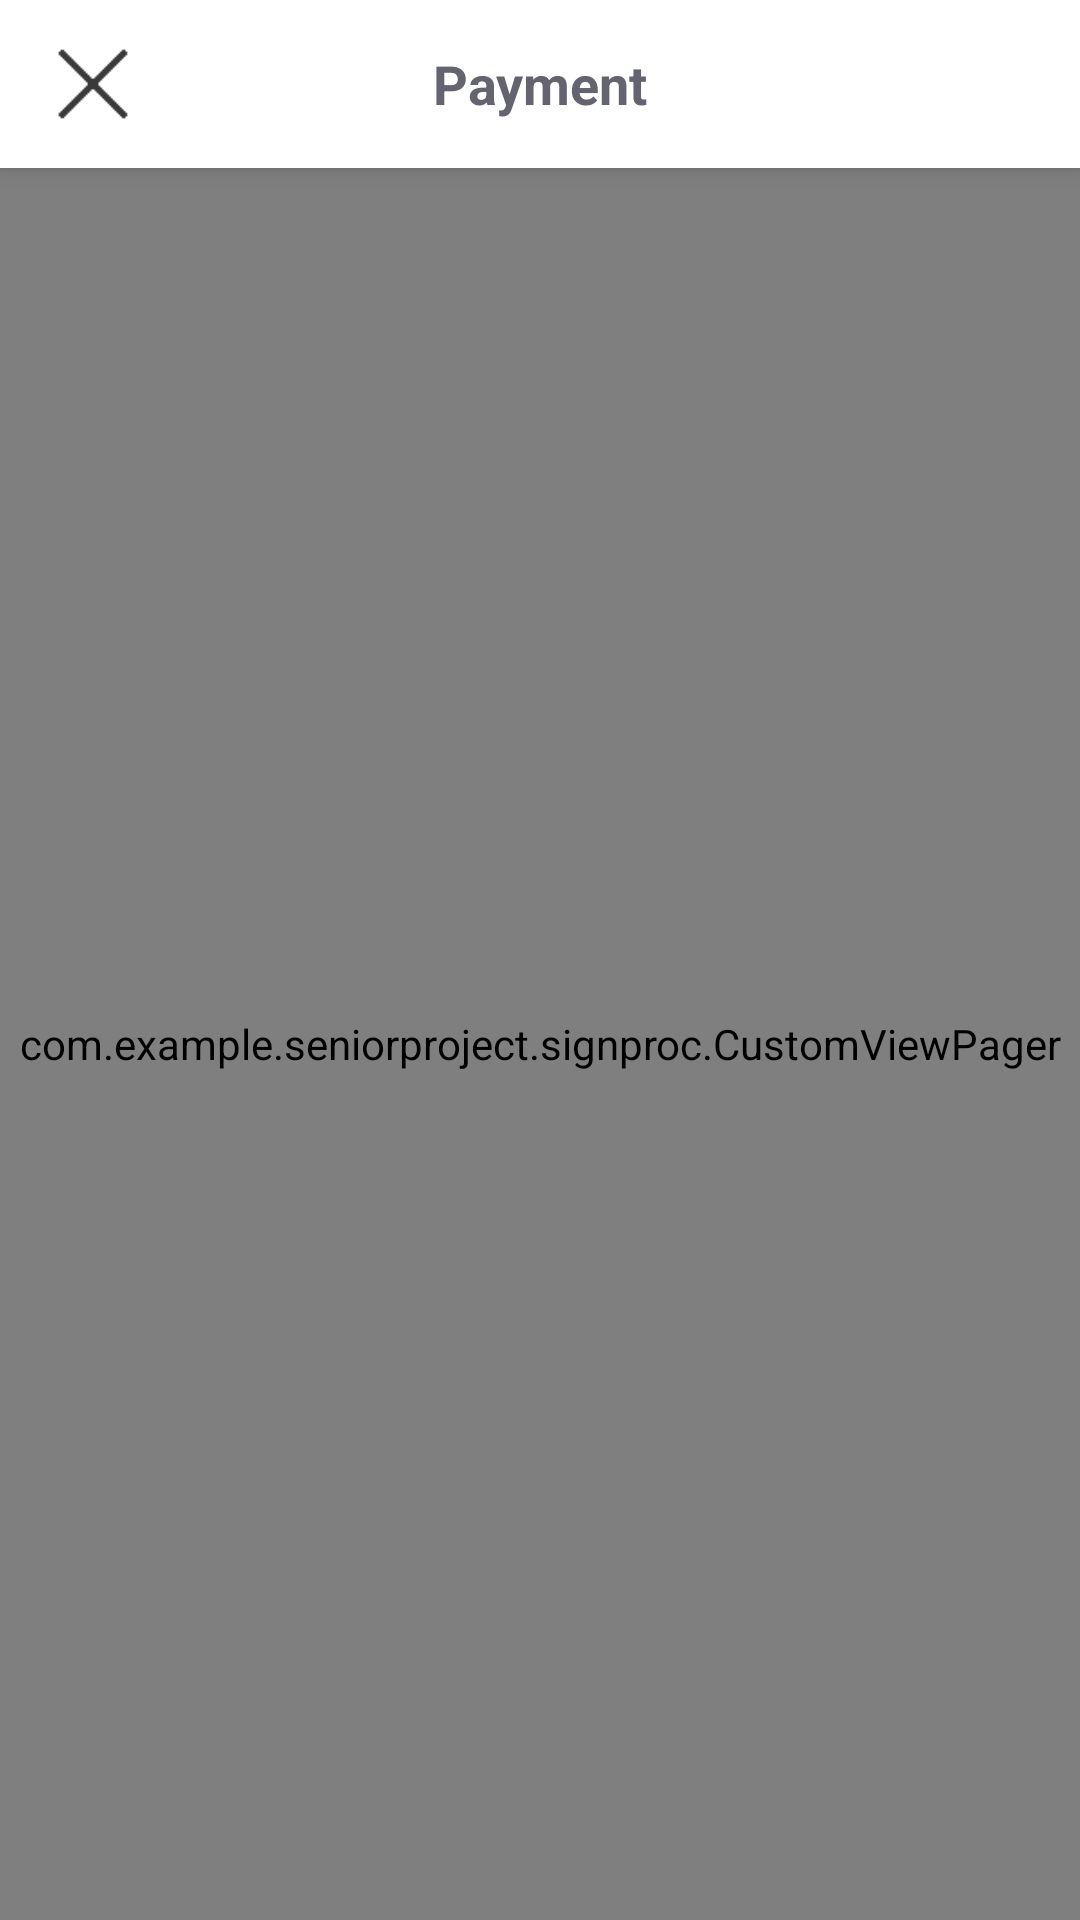

Screen size 1080x1920. Icon name, then its box in pixels as (x1=x1, y1=y1, x2=x2, y2=y2):
crosso: (x1=58, y1=49, x2=128, y2=119)
